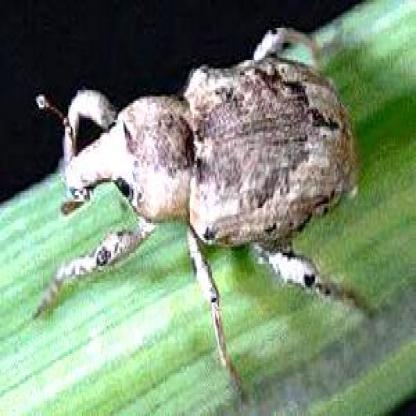rice-bug: (41, 34, 357, 320)
